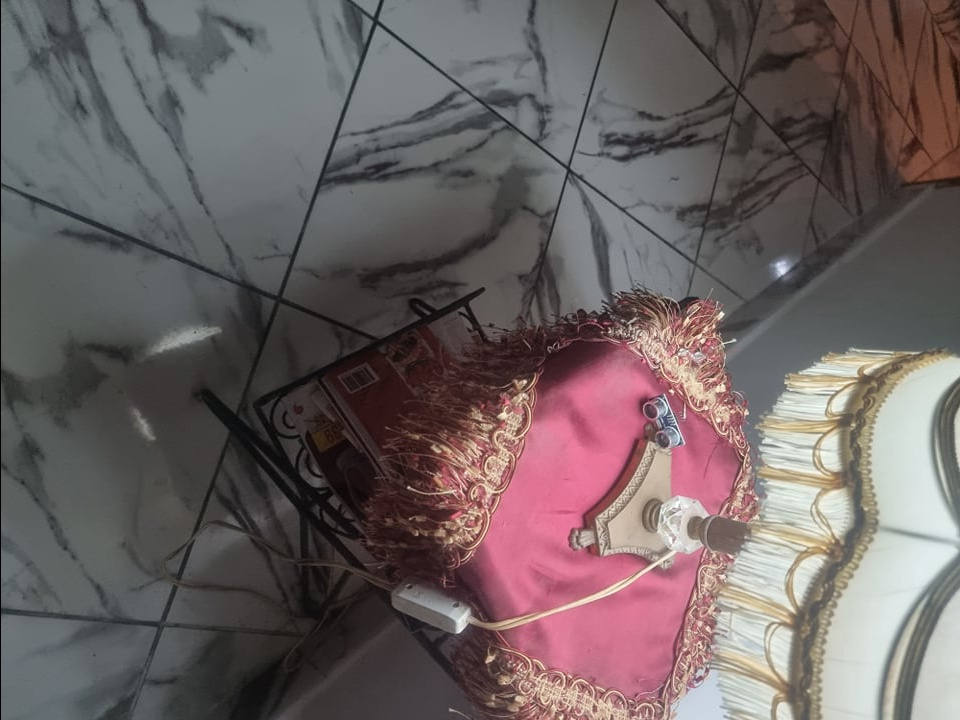SENSOR: (642, 397, 683, 452)
